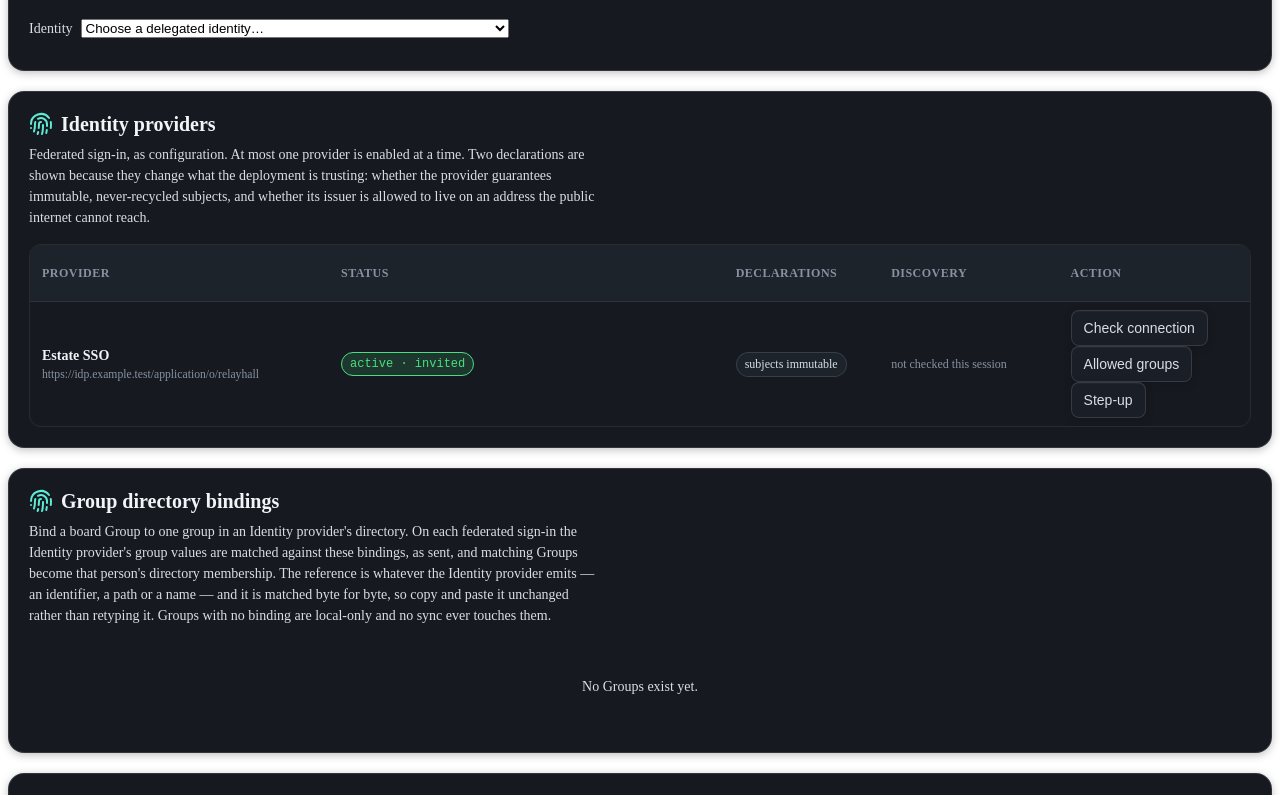
Test case: the server decides, and its refusal is shown by name › text that is not a whole number is not sent at all
(page scrolled)
Click the button with aria-label "Step-up for Estate SSO". click: (1108,400)
box: top-left (1071, 382), bottom-right (1146, 418)
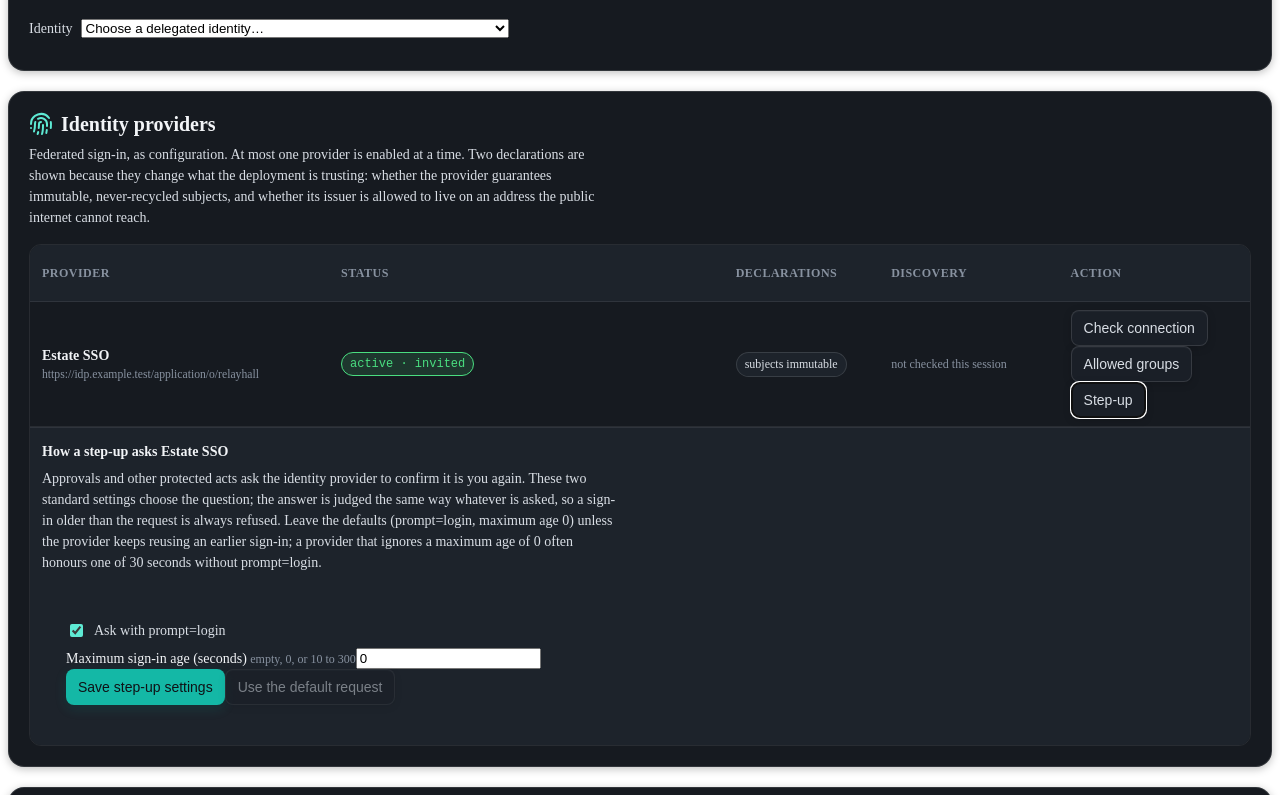
Replace the text in the field labelled "Maximum sign-in age (seconds) empty, 0, or 10 to 300" with "thirty". click: (448,658)
box: top-left (356, 648), bottom-right (541, 669)
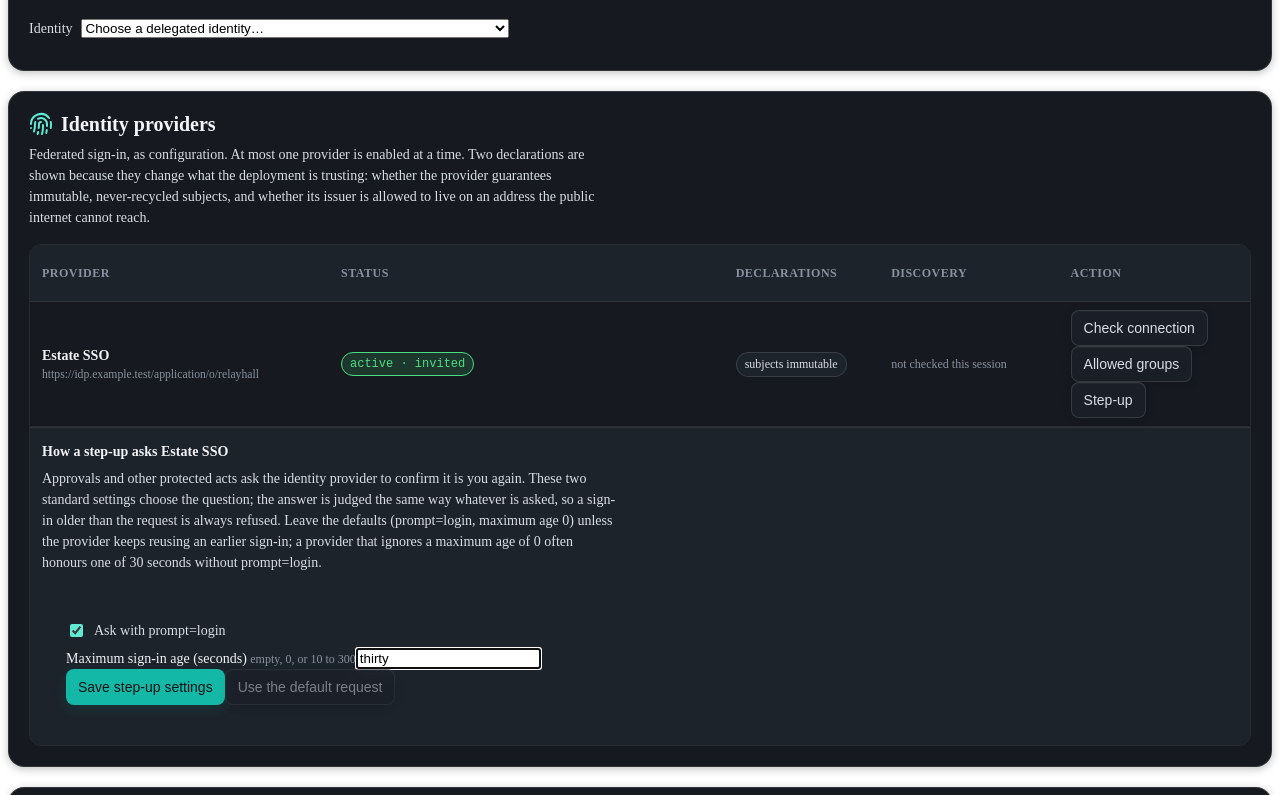
Click the button "Save step-up settings". click: (145,687)
box: top-left (66, 669), bottom-right (225, 705)
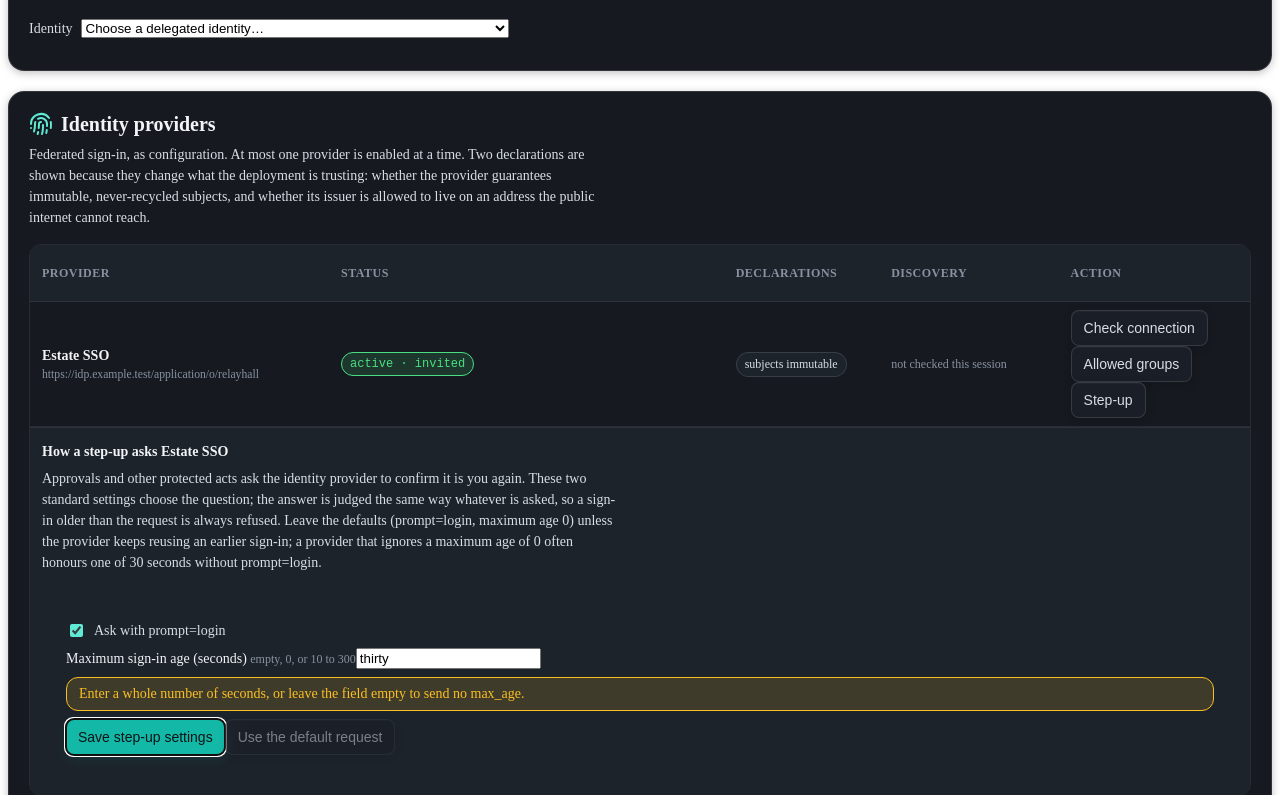
Expected: the message shows "whole number of seconds", top-left (79, 686), bottom-right (524, 701)
